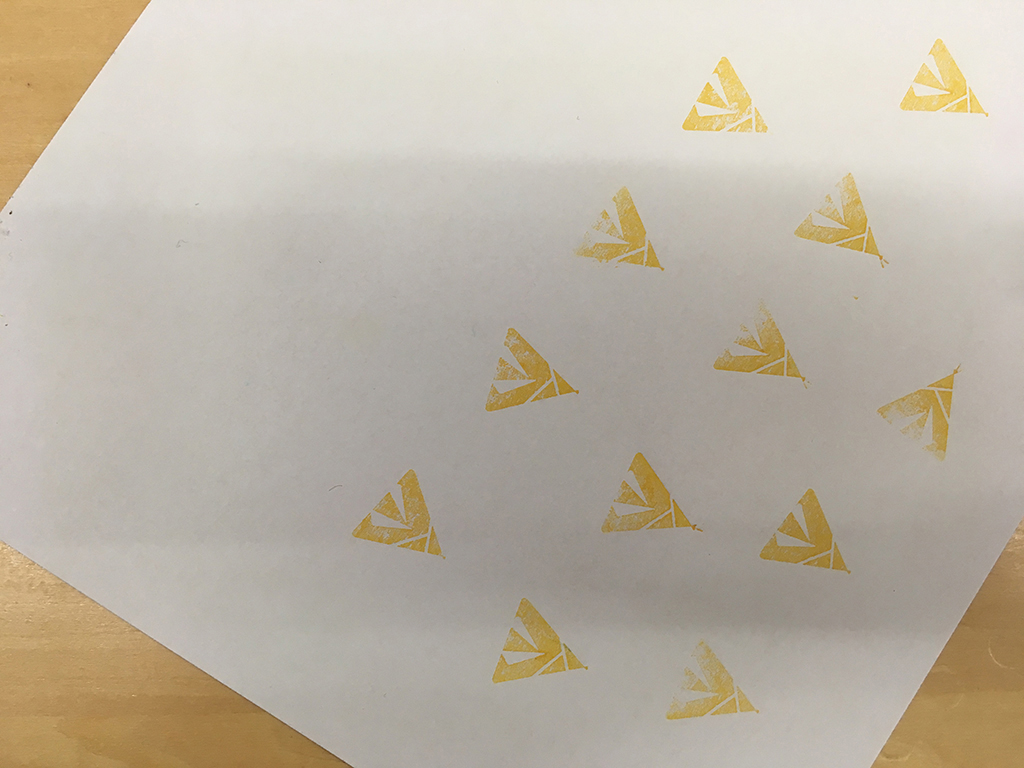tent: (704, 291, 820, 395), (596, 443, 713, 546), (743, 479, 860, 582), (477, 319, 591, 415), (349, 468, 458, 567), (792, 166, 894, 270), (869, 355, 963, 465), (566, 181, 674, 276), (675, 50, 780, 146), (660, 634, 772, 722), (492, 596, 593, 682), (896, 31, 993, 119)
